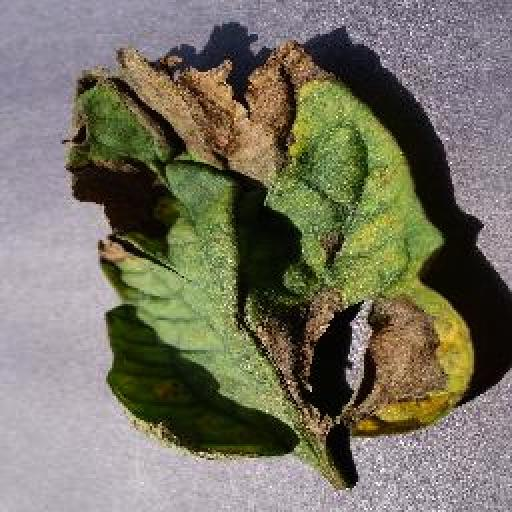disease_tomato: (66, 40, 476, 466)
